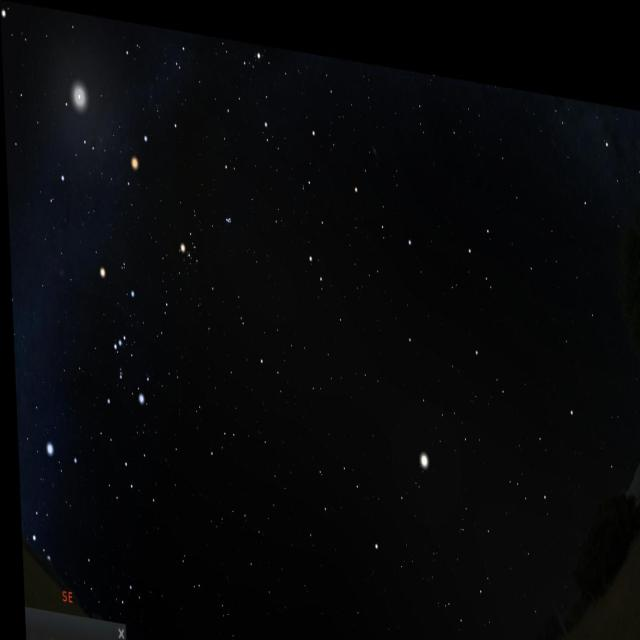canis_major: (29, 441, 80, 549)
gemini: (0, 0, 107, 164)
moon: (59, 66, 101, 132)
orion: (87, 258, 150, 415)
pleiades: (213, 196, 236, 227)
taurus: (171, 177, 239, 303)
